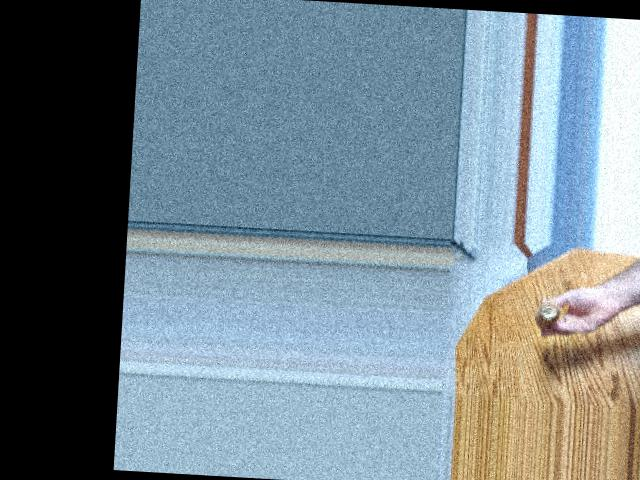sweet_potato: (530, 298, 559, 323)
